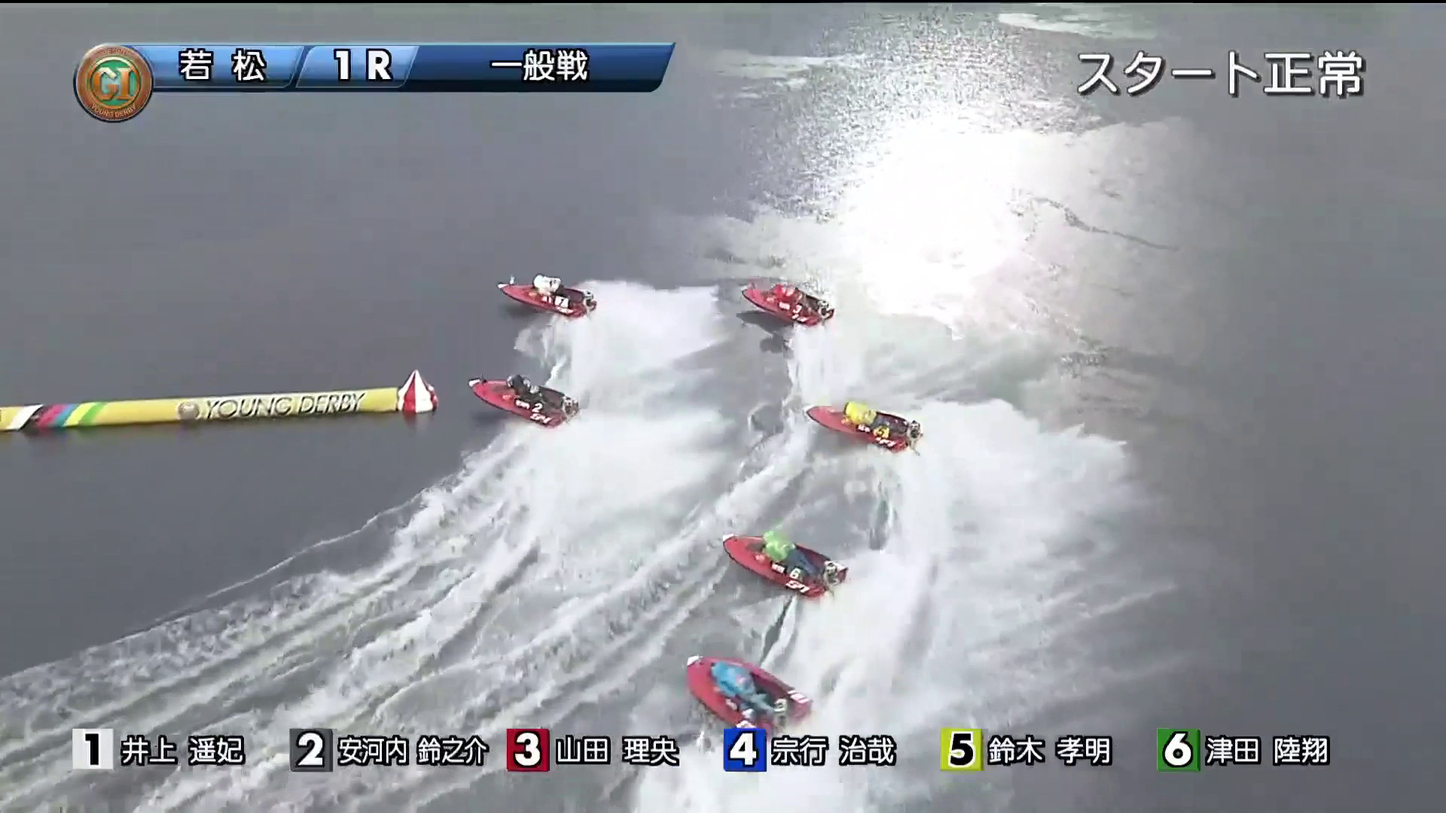１号艇: (486, 287, 556, 340)
２号艇: (440, 373, 569, 434)
３号艇: (739, 277, 837, 323)
４号艇: (706, 530, 840, 596)
５号艇: (695, 666, 818, 721)
６号艇: (806, 382, 906, 463)
